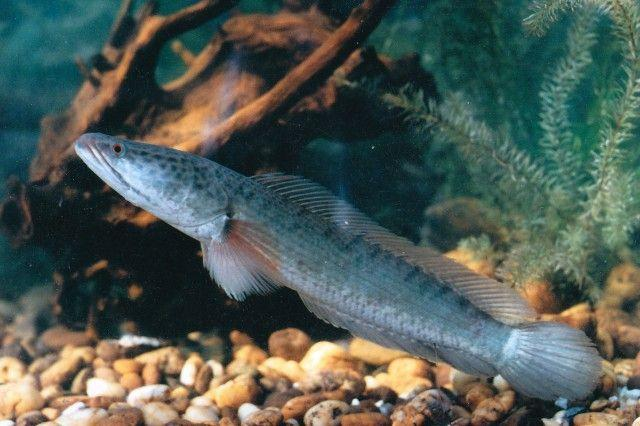Mudfish: (74, 130, 600, 400)
